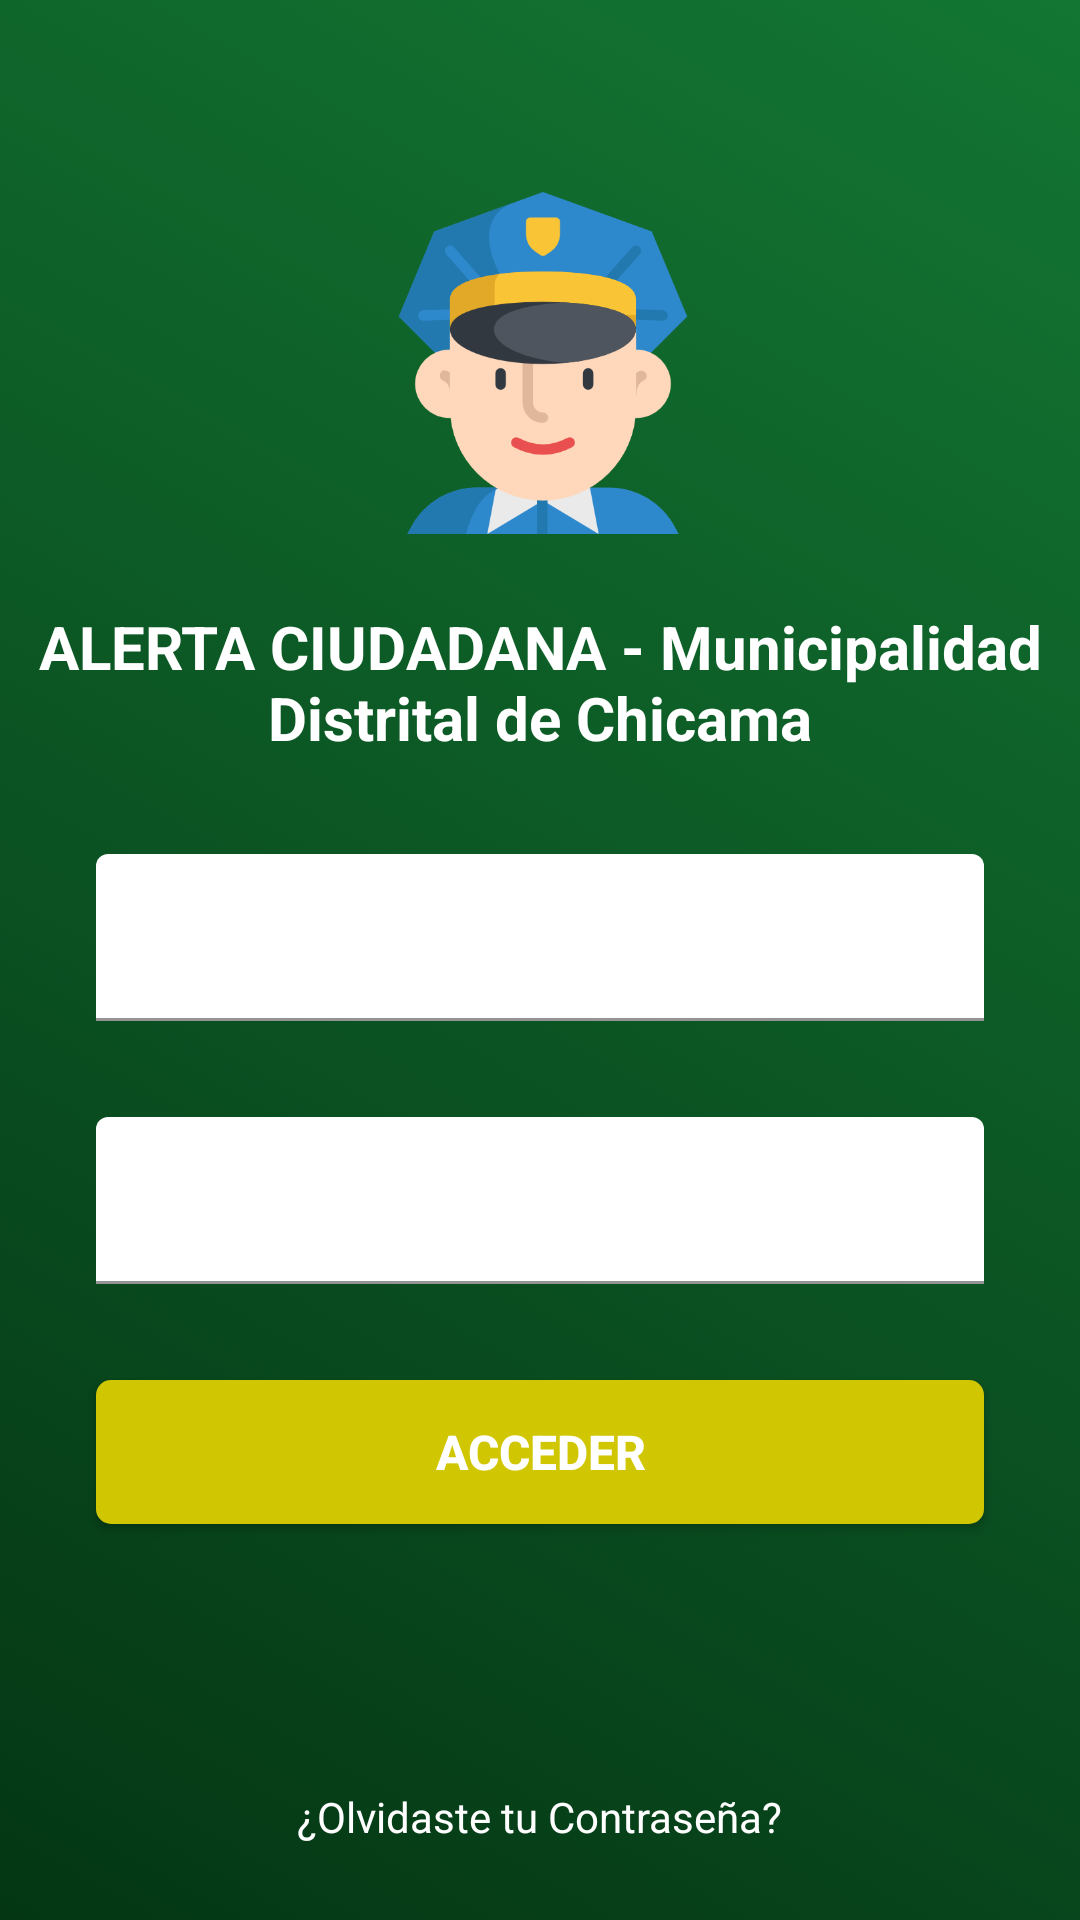

Named icons in this screenshot (1080*1920) and their centers, (x,y):
oficial: (543,363)
